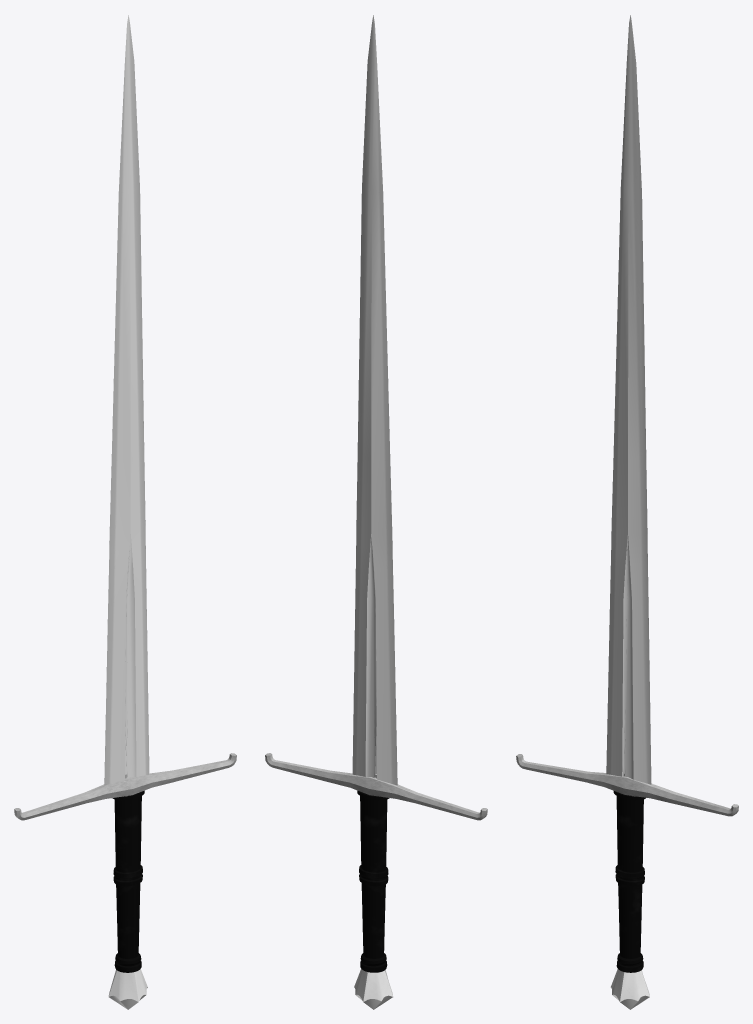
Rendered from sword.fbx.
The picture shows the model from 3 angles, left to right: view 1: azimuth 30°, elevation 25°; view 2: azimuth 150°, elevation 25°; view 3: azimuth 330°, elevation 25°; orthographic projection.
Visible parts, largest first — view 1: blade, hilt, Cube, pommel; view 2: blade, hilt, Cube, pommel; view 3: blade, hilt, Cube, pommel.
Part boxes in pixels (box(x1,y1,x2,y2)): blade: box(104, 15, 149, 796); hilt: box(112, 790, 144, 972); Cube: box(14, 753, 236, 820); pommel: box(108, 969, 147, 1009); blade: box(352, 15, 397, 785); hilt: box(357, 790, 389, 972); Cube: box(265, 753, 487, 820); pommel: box(354, 969, 393, 1009); blade: box(606, 15, 651, 784); hilt: box(613, 791, 645, 972); Cube: box(516, 754, 738, 816); pommel: box(610, 969, 649, 1009).
Bounding box in the file's own units: 65.18 × 281 × 10.67.
4 materials, 4 textured.
